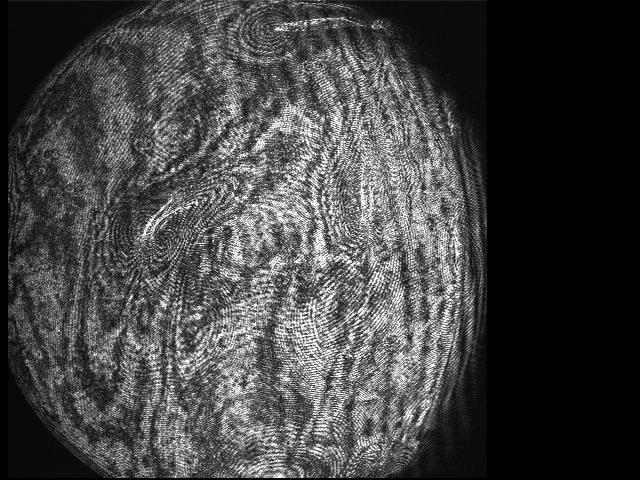plume: (101, 180, 235, 280)
